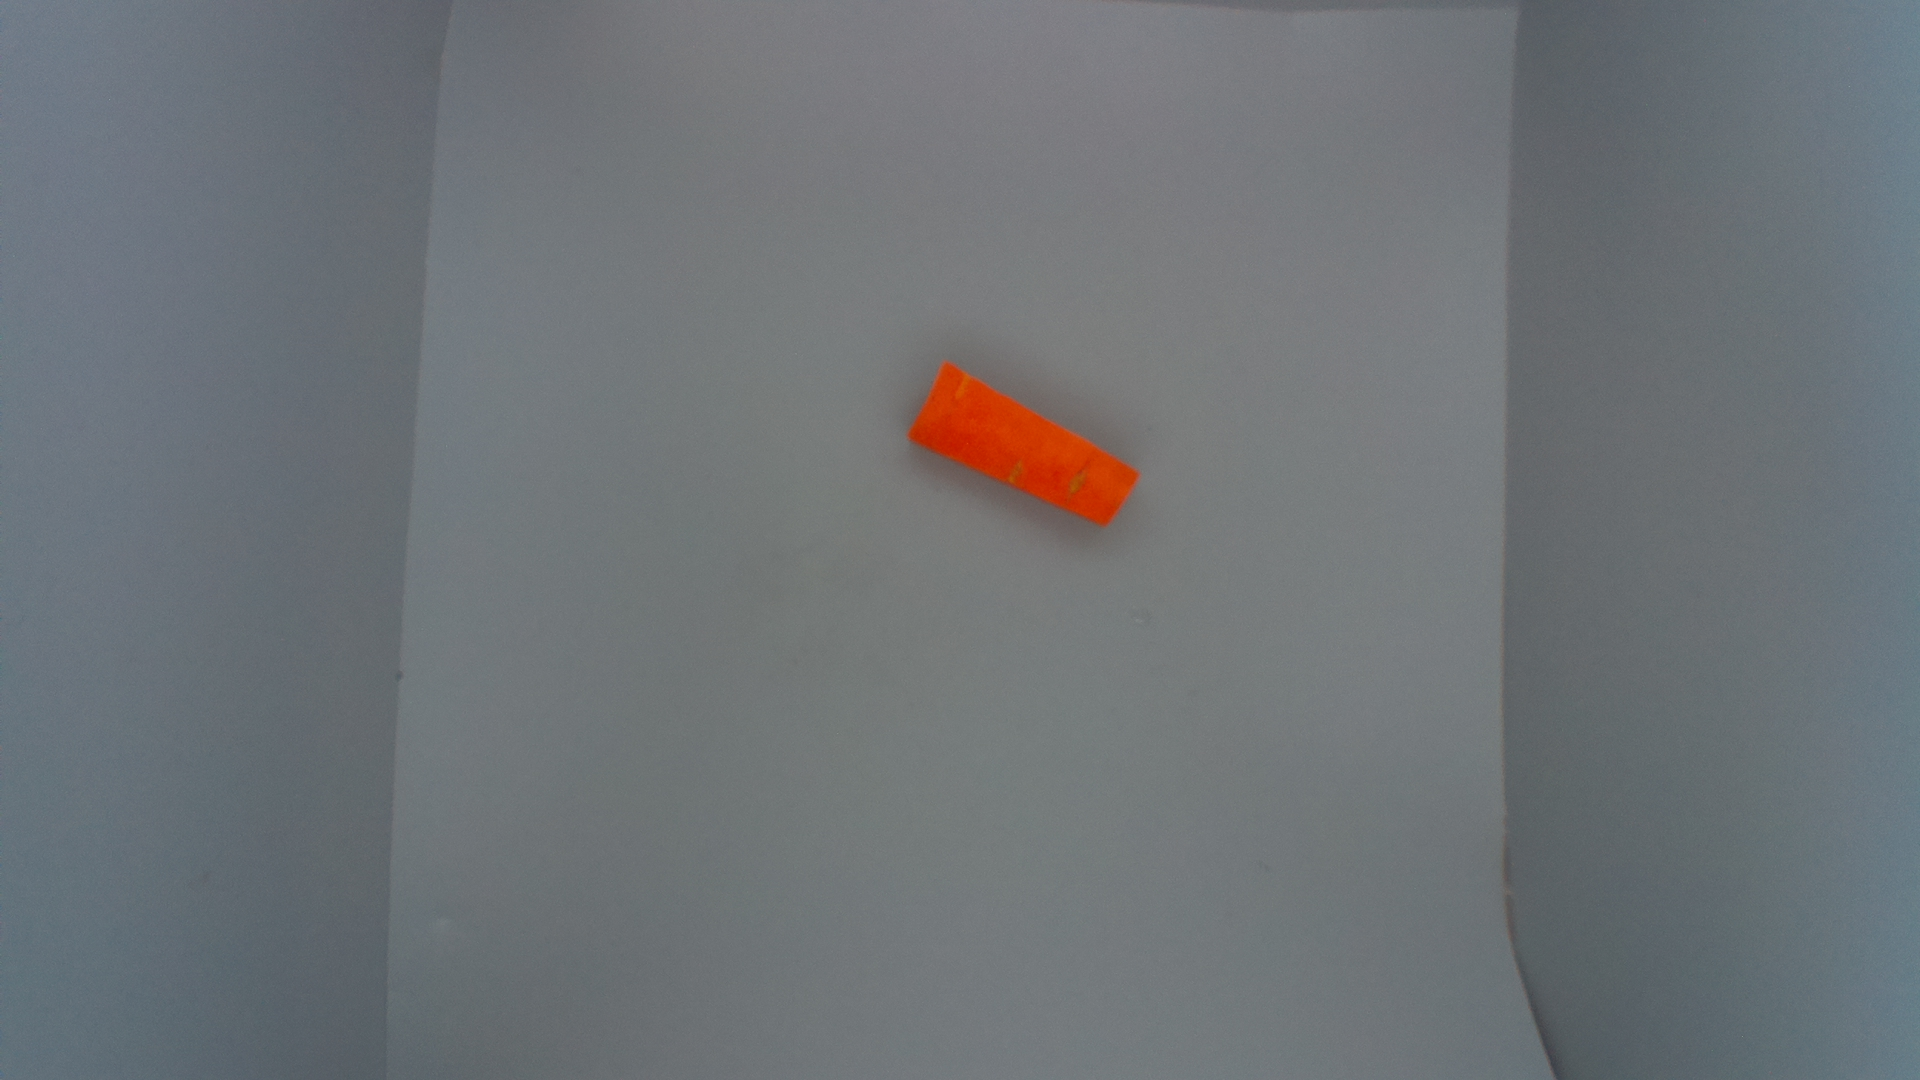carrot: (905, 357, 1139, 530)
